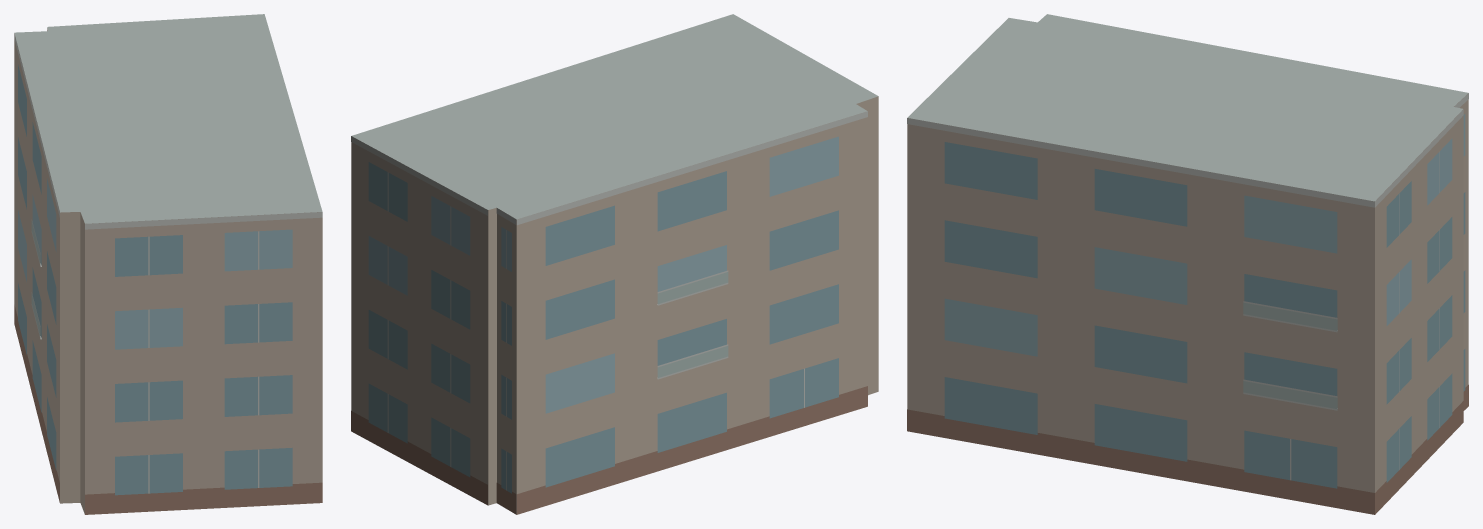
Rendered from survey-upis-32879756.glb.
3 views of the same model, side by side, from view 1: azimuth 30°, elevation 25°; view 2: azimuth 150°, elevation 25°; view 3: azimuth 270°, elevation 25° (orthographic). The views are drawn at different scales.
Parts seen in each view (by area): view 1: survey-upis-32879756.tmp; view 2: survey-upis-32879756.tmp; view 3: survey-upis-32879756.tmp.
Boxes of the visible parts, x1,y1,x2,y2 form: survey-upis-32879756.tmp: (14,14,322,514); survey-upis-32879756.tmp: (351,14,878,514); survey-upis-32879756.tmp: (907,14,1468,514).
Bounding box in the file's own units: 15.66 × 12.2 × 19.82.
